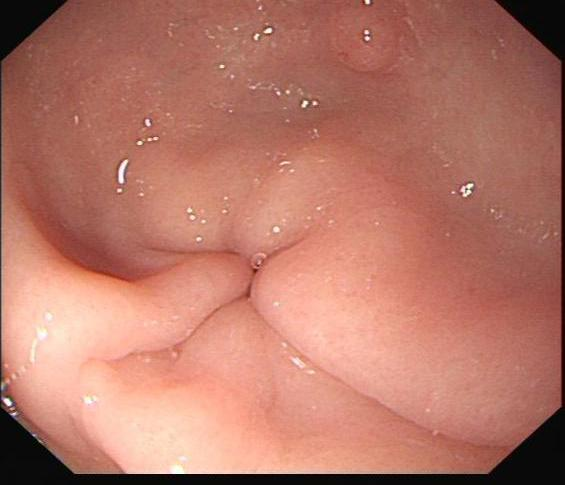Polyp: (325, 5, 423, 82)
